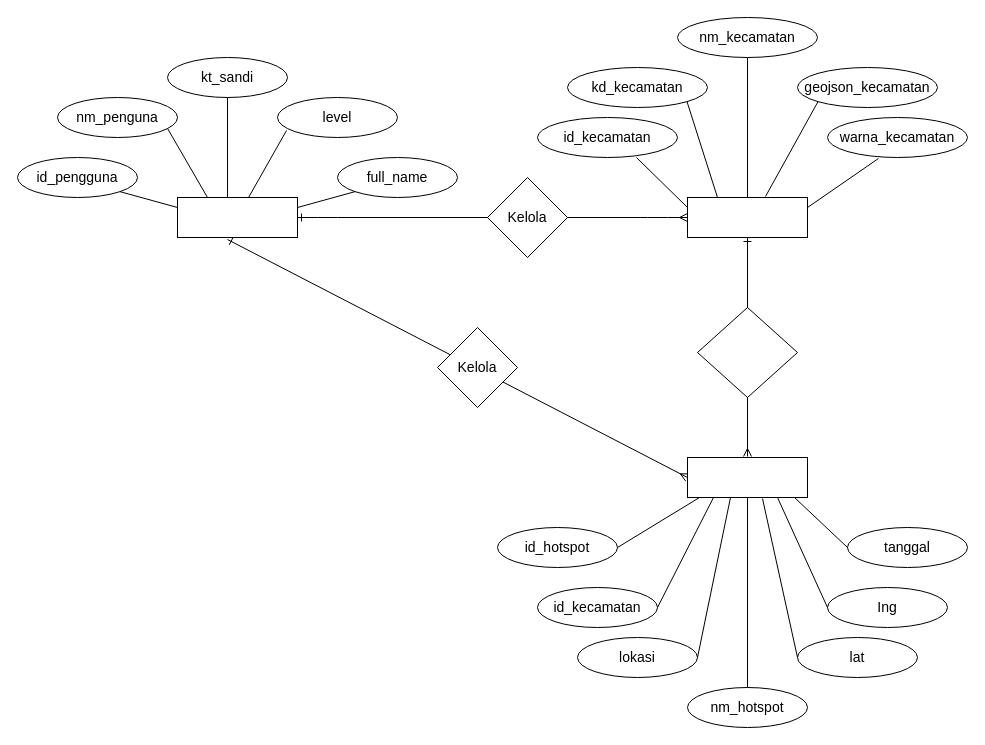
Image size: 985x745. Some labels were removed from this diagram. Here are the shapes that lost their labels. From the top down, the centre of each, then its label:
At (x=237, y=217): "Pengguna".
At (x=747, y=217): "Kecamatan".
At (x=747, y=352): "Menghasilkan".
At (x=747, y=477): "Hotspot".
